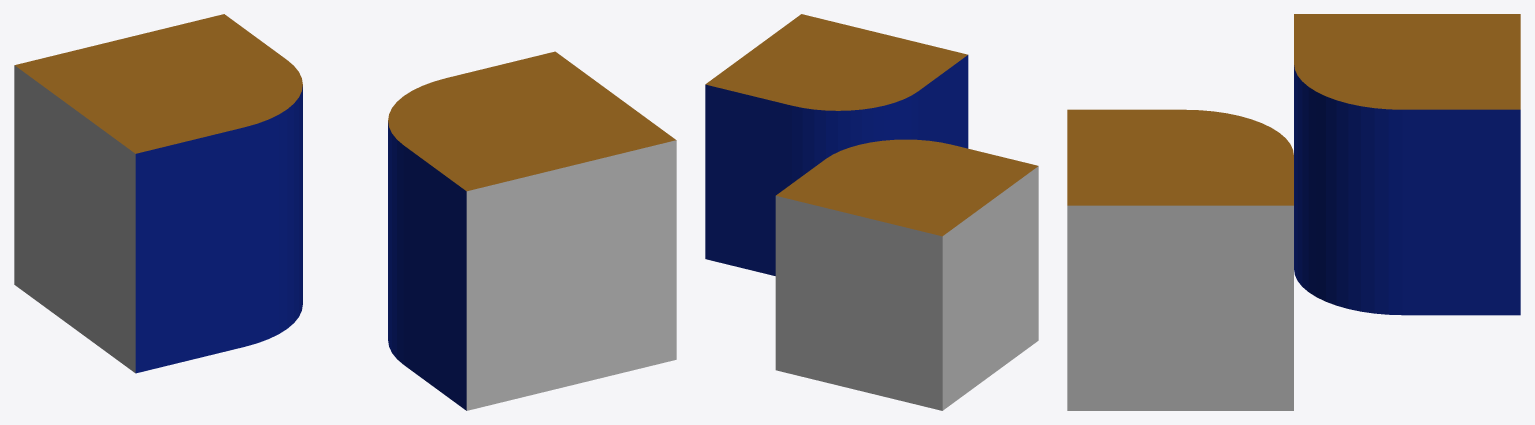
File: case_5.fbx
3 renders of one model, left to right at view 1: azimuth 30°, elevation 25°; view 2: azimuth 150°, elevation 25°; view 3: azimuth 270°, elevation 25°, orthographic. The views are drawn at different scales.
Visible parts, largest first — view 1: case_5; view 2: case_5; view 3: case_5.
Part boxes in pixels (x1,y1,x2,y2): case_5: [14, 14, 676, 410]; case_5: [705, 14, 1038, 410]; case_5: [1067, 14, 1520, 410].
Size of the model in its own units: 1 by 1 by 0.5.
